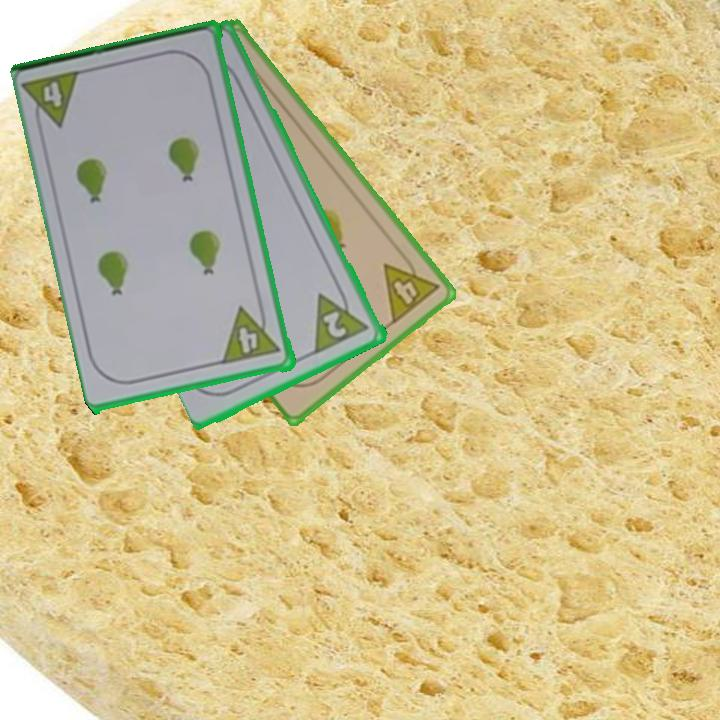2p: (311, 281, 373, 357)
4p: (380, 247, 443, 327), (219, 306, 265, 363), (40, 78, 66, 111)
